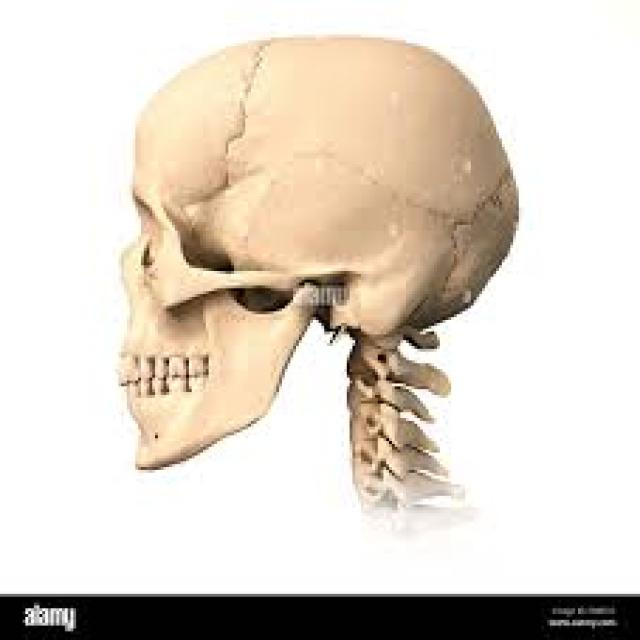skull: (108, 31, 521, 479)
